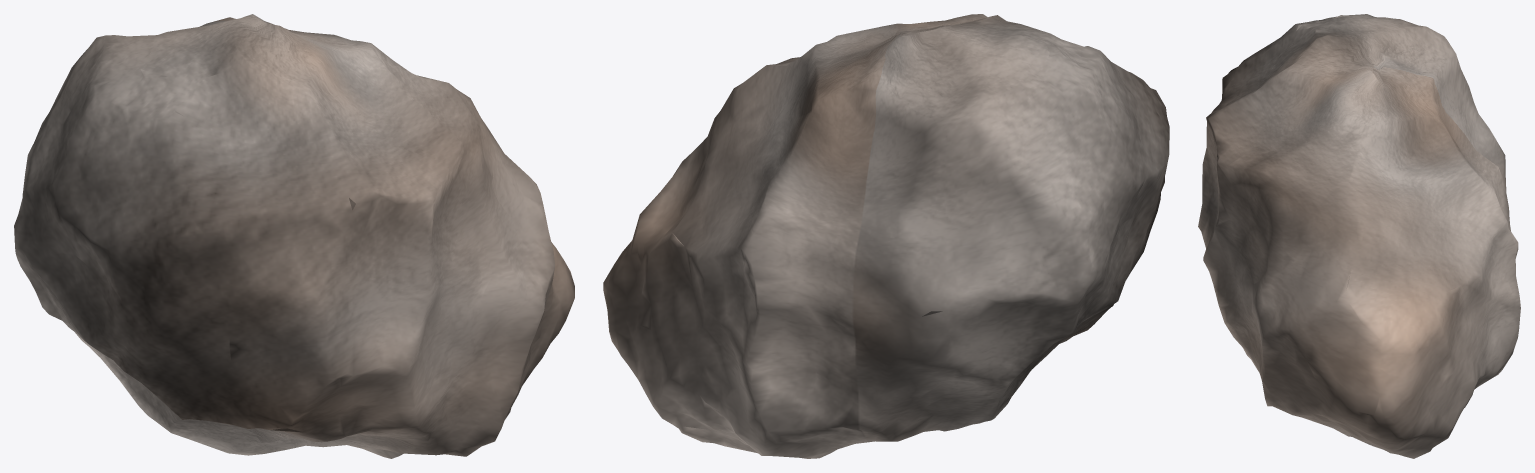
The model's file is Asteroid3.dae.
3 renders of one model, left to right at view 1: azimuth 30°, elevation 25°; view 2: azimuth 150°, elevation 25°; view 3: azimuth 270°, elevation 25°, orthographic. The views are drawn at different scales.
Visible parts, largest first — view 1: rock; view 2: rock; view 3: rock.
Part boxes in pixels (x1,y1,x2,y2): rock: [14, 14, 574, 458]; rock: [603, 14, 1169, 458]; rock: [1198, 14, 1520, 458].
Size of the model in its own units: 2.07 by 1.5 by 1.79.
